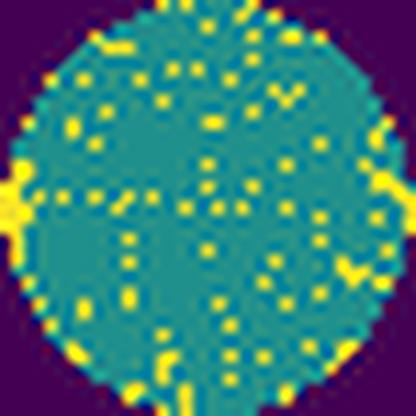Edge-Loc: (0, 155, 50, 274), (362, 159, 416, 241)
